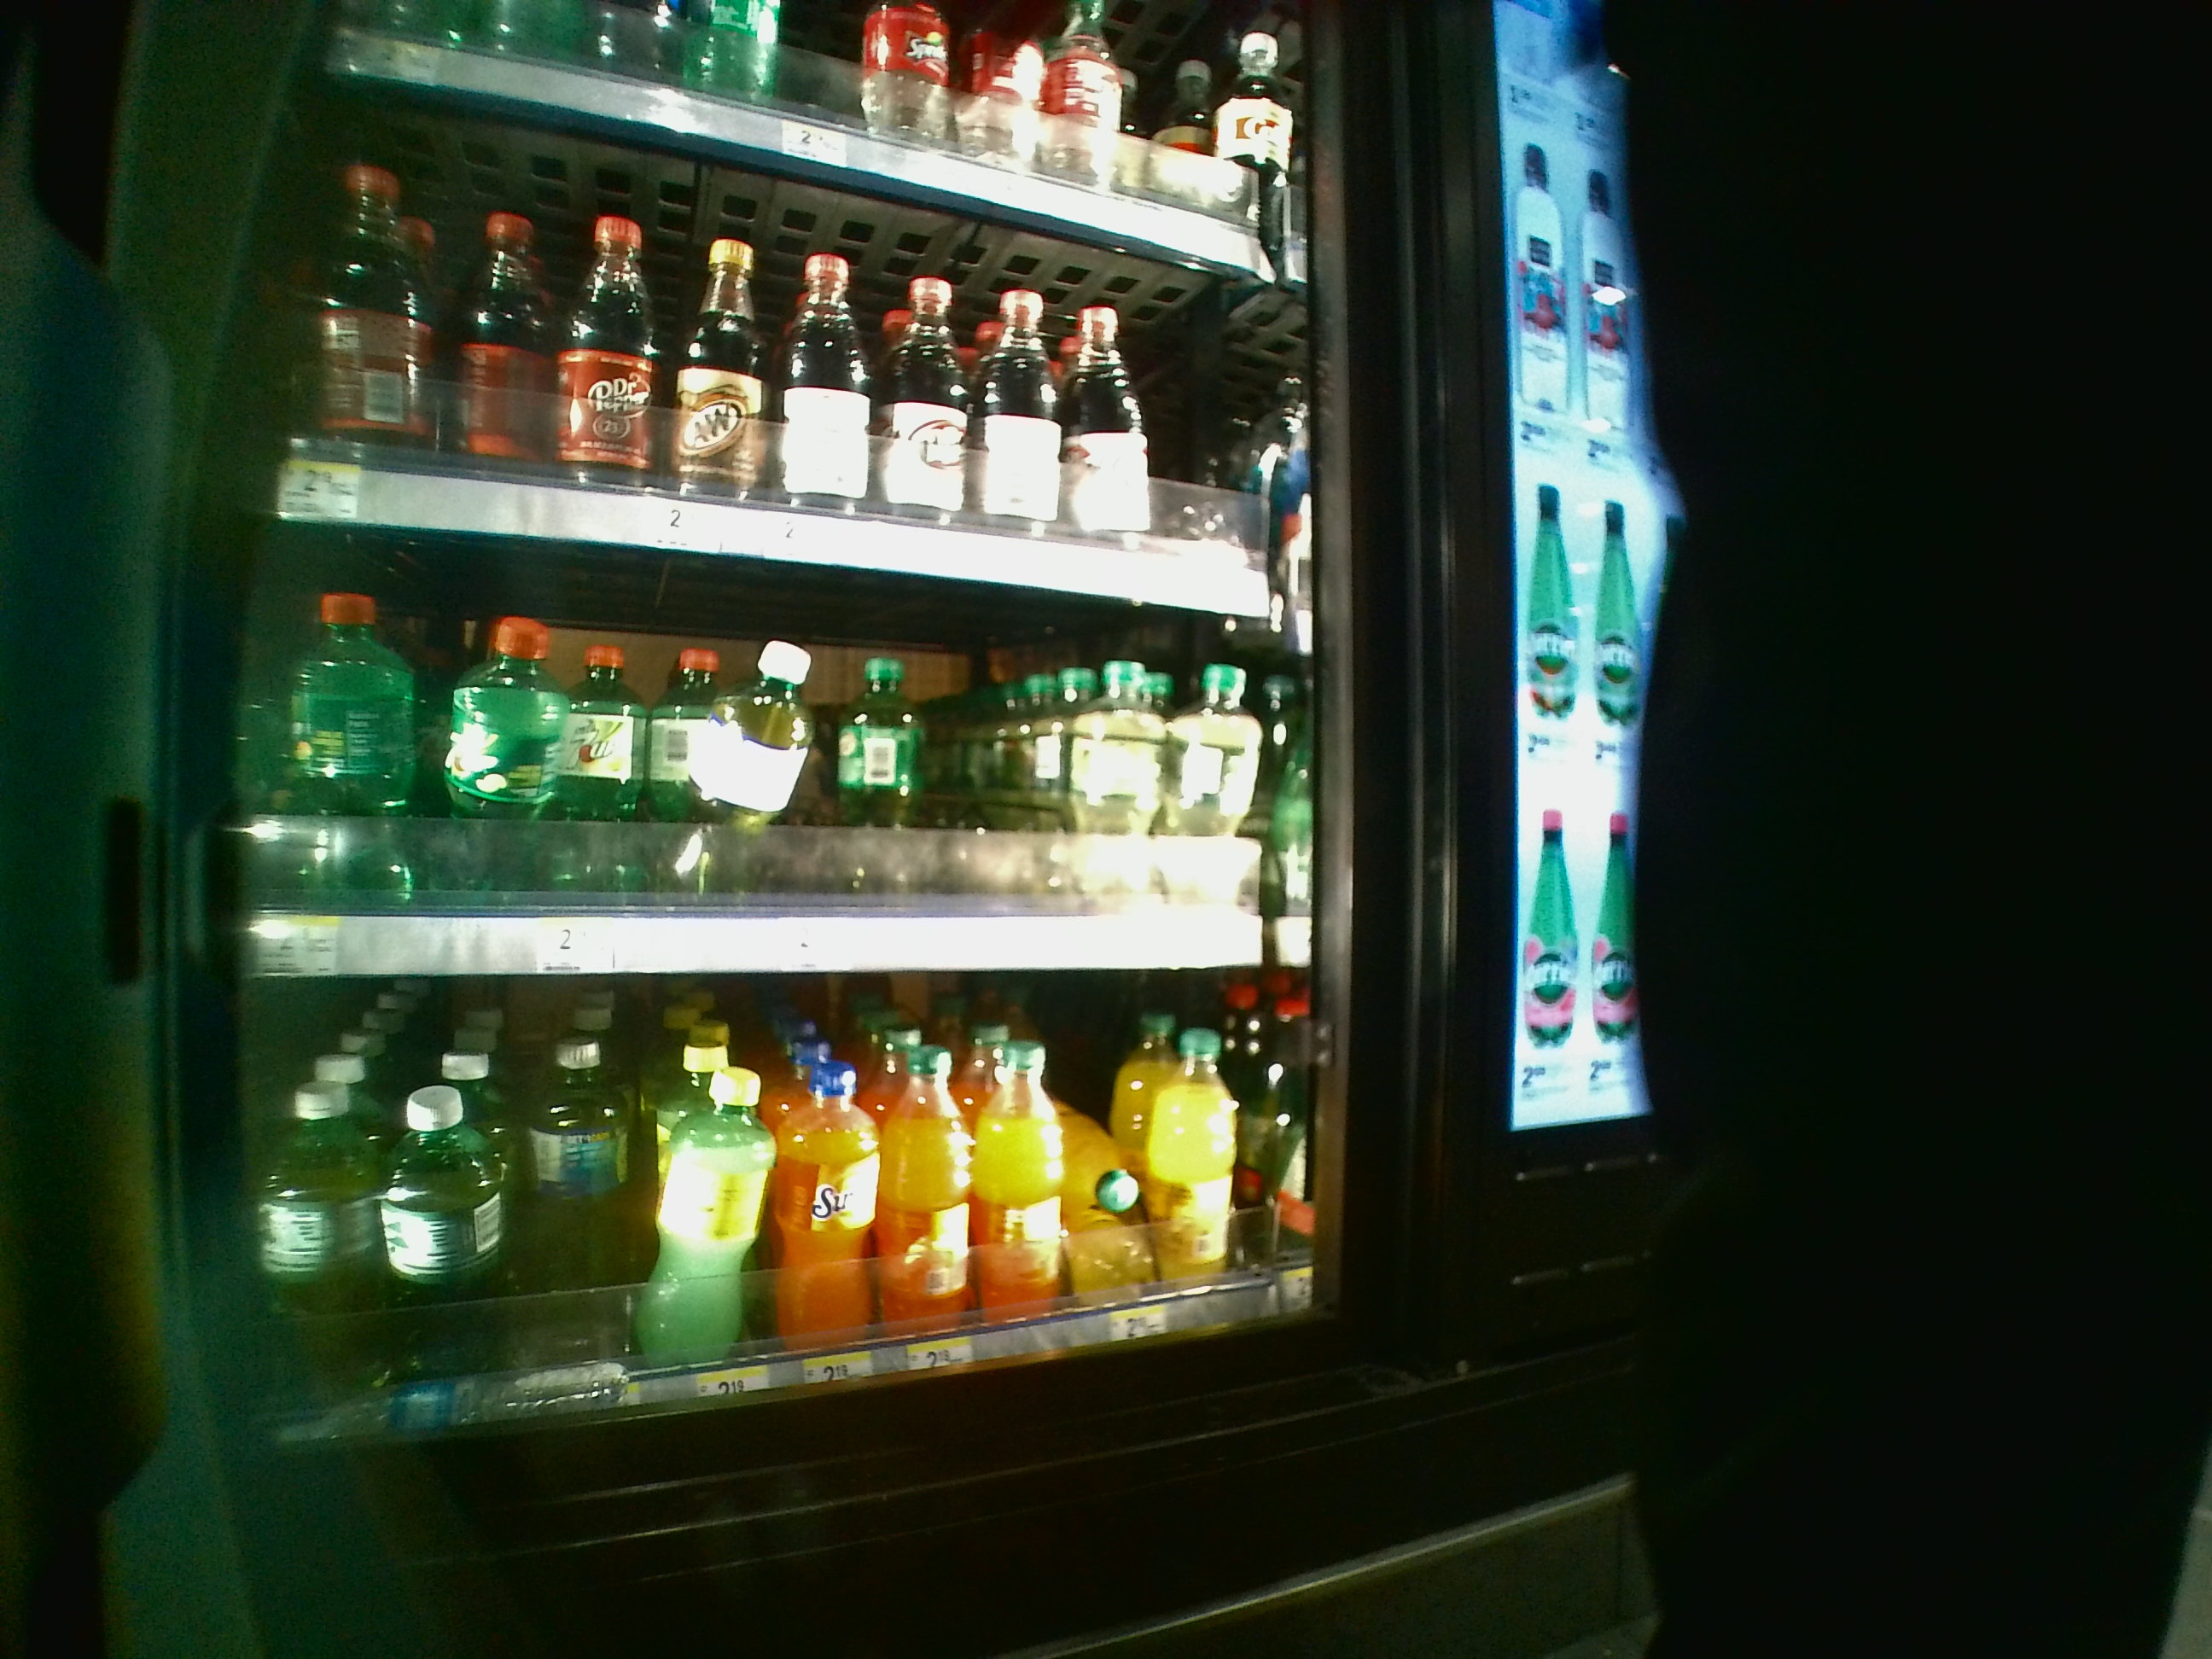shelf: (232, 992, 1332, 1398), (244, 587, 1318, 985), (289, 192, 1303, 592)
